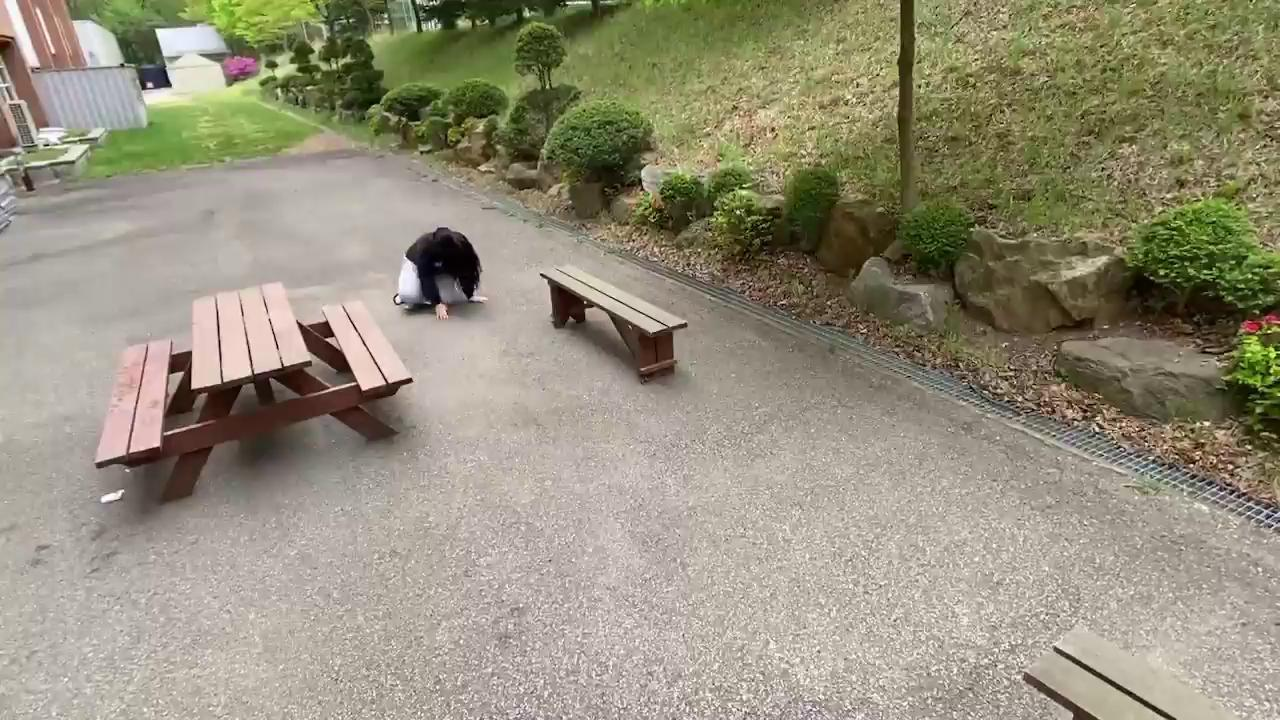fall_down: (391, 224, 494, 323)
